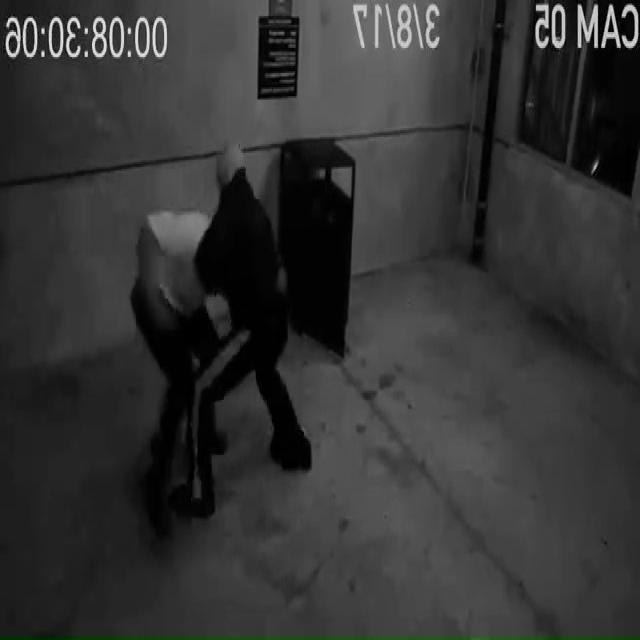fight: (131, 146, 310, 544)
